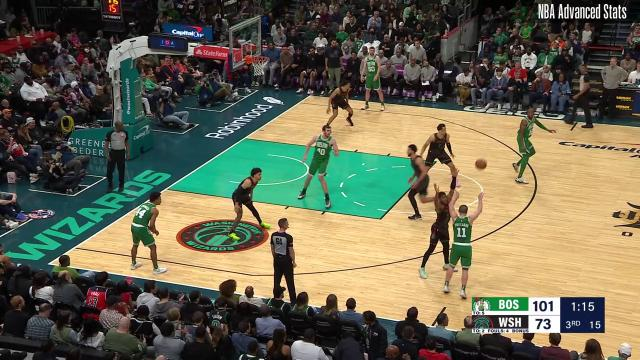3_dx: (294, 99, 304, 107)
3_sx: (70, 244, 80, 254)
b_dx: (306, 90, 314, 99)
b_sx: (44, 260, 52, 268)
free_adx: (432, 157, 440, 167)
free_asx: (376, 214, 384, 222)
free_bdx: (242, 134, 248, 142)
free_bsx: (161, 184, 171, 192)
mid_dx: (573, 118, 579, 126)
mid_sx: (426, 322, 436, 330)
referee: (271, 219, 299, 301), (106, 121, 130, 191), (569, 65, 593, 129)
team: (443, 191, 482, 299), (298, 124, 340, 210), (511, 106, 553, 184), (130, 190, 168, 276), (362, 46, 386, 112)
team1: (419, 185, 458, 280), (229, 168, 271, 240), (420, 122, 460, 190), (406, 144, 438, 220), (326, 82, 354, 128)
timer: (564, 296, 596, 314)
